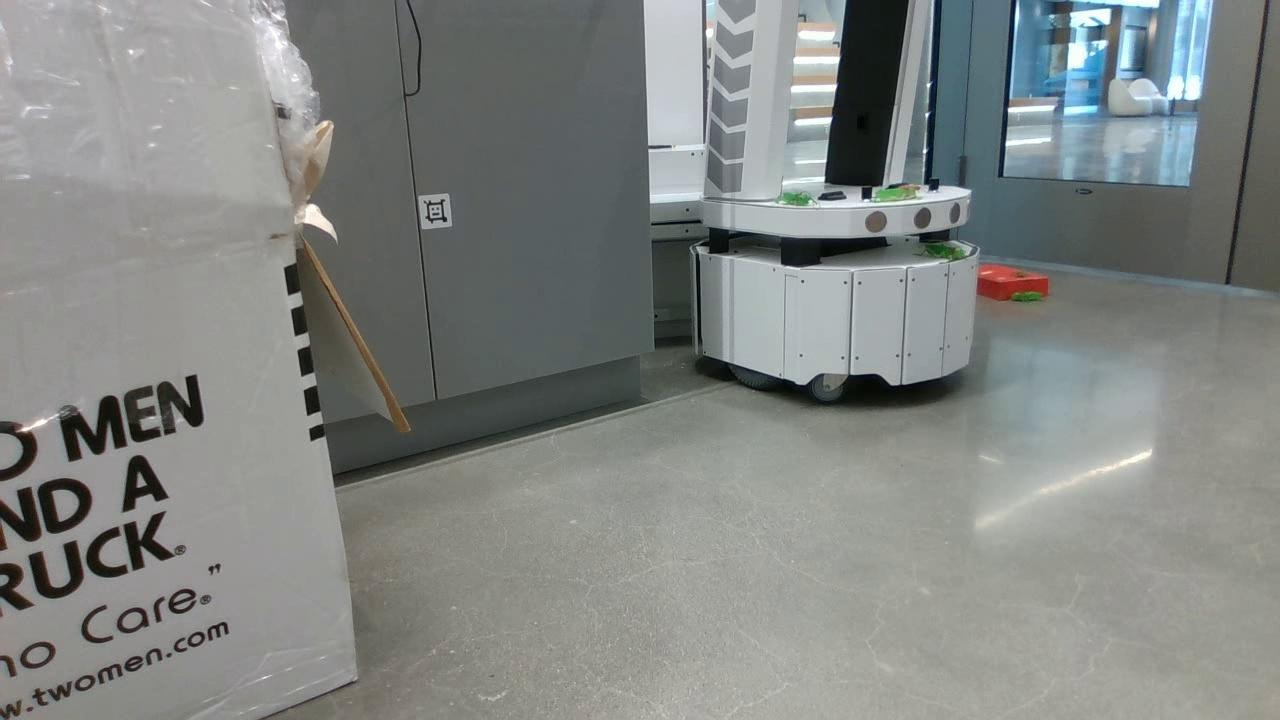grasshopper: (913, 243, 964, 266), (870, 189, 912, 205), (777, 191, 816, 208), (1009, 291, 1047, 303)
